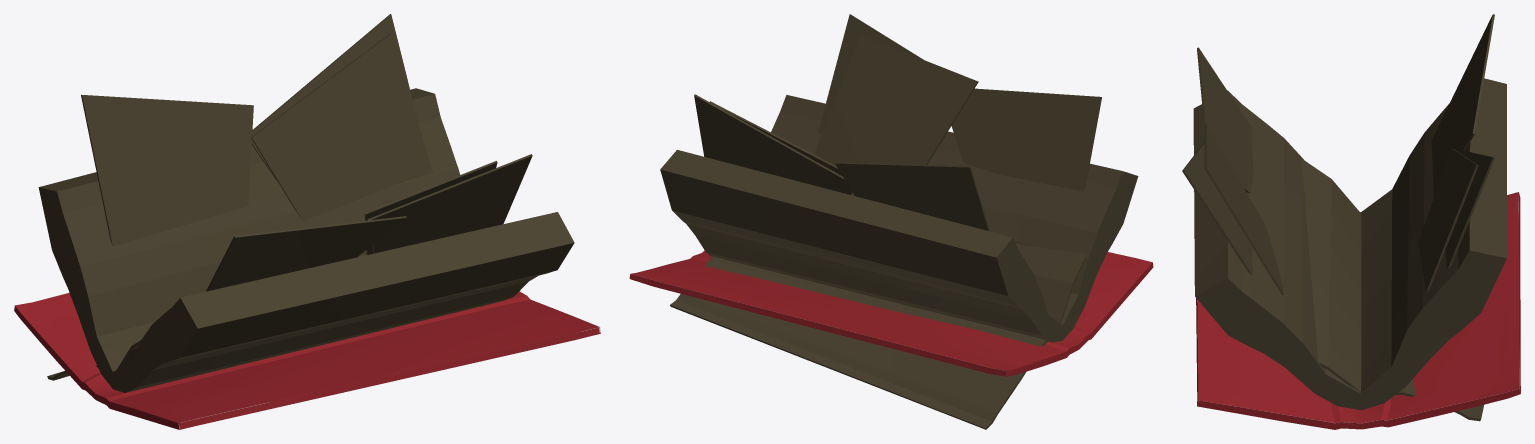
The model's file is enemy2.obj.
3 renders of one model, left to right at view 1: azimuth 30°, elevation 25°; view 2: azimuth 150°, elevation 25°; view 3: azimuth 270°, elevation 25°, orthographic. The views are drawn at different scales.
Parts seen in each view (by area): view 1: Book1_Open_Cube.106; view 2: Book1_Open_Cube.106; view 3: Book1_Open_Cube.106.
Part boxes in pixels (x1,y1,x2,y2): Book1_Open_Cube.106: [14, 14, 600, 429]; Book1_Open_Cube.106: [629, 14, 1153, 429]; Book1_Open_Cube.106: [1182, 14, 1520, 429].
Bounding box in the file's own units: 7.4 × 4.84 × 5.22.
2 materials, 1 textured.
